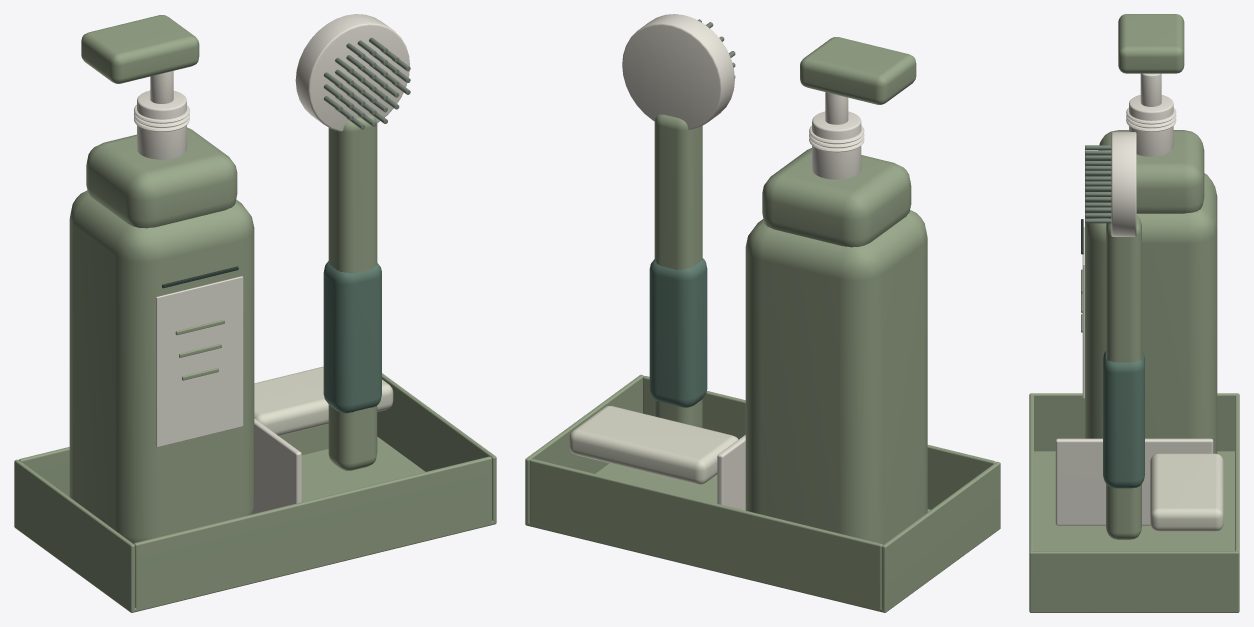
File: kitchen.glb
3 renders of one model, left to right at view 1: azimuth 30°, elevation 25°; view 2: azimuth 150°, elevation 25°; view 3: azimuth 270°, elevation 25°, orthographic. The views are drawn at different scales.
Parts seen in each view (by area): view 1: Task bottle molded body, Removable docking tray front, Task bottle task label, Task bottle shoulder, Task brush handle, Removable docking tray left, Task brush soft grip, Task brush head, Task bottle pump top, Removable docking tray right, Separated textile, Removable docking tray floor (+4 smaller); view 2: Task bottle molded body, Removable docking tray back, Task bottle shoulder, Task brush head, Removable docking tray left, Separated textile, Task brush handle, Task brush soft grip, Task bottle pump top, Removable docking tray front, Removable docking tray right, Task bottle neck (+3 smaller); view 3: Task bottle molded body, Removable docking tray right, Removable docking tray floor, Task brush handle, Wet dry divider, Separated textile, Task brush soft grip, Task bottle shoulder, Task bottle pump top, Removable docking tray left, Task brush head, Task bottle neck (+4 smaller).
Part boxes in pixels (box(x1,y1,x2,y2)): Task bottle molded body: box(69, 190, 254, 543); Removable docking tray front: box(134, 456, 491, 611); Task bottle task label: box(156, 276, 243, 447); Task bottle shoulder: box(86, 127, 237, 228); Task brush handle: box(328, 116, 377, 470); Removable docking tray left: box(14, 459, 134, 612); Task brush soft grip: box(323, 261, 381, 413); Task brush head: box(295, 14, 409, 131); Task bottle pump top: box(81, 15, 199, 83); Removable docking tray right: box(377, 373, 496, 524); Separated textile: box(254, 366, 393, 435); Removable docking tray floor: box(115, 436, 495, 612); Task bottle molded body: box(745, 210, 927, 544); Removable docking tray back: box(529, 458, 882, 611); Task bottle shoulder: box(762, 148, 911, 247); Task brush head: box(622, 14, 734, 129); Removable docking tray left: box(881, 461, 1000, 612); Separated textile: box(569, 406, 738, 484); Task brush handle: box(654, 114, 702, 427); Task brush soft grip: box(649, 258, 707, 407); Task bottle pump top: box(800, 37, 916, 104); Removable docking tray front: box(643, 376, 995, 509); Removable docking tray right: box(525, 374, 643, 525); Task bottle neck: box(812, 111, 861, 179); Task bottle molded body: box(1085, 173, 1217, 453); Removable docking tray right: box(1029, 551, 1239, 612); Removable docking tray floor: box(1030, 451, 1239, 612); Task brush handle: box(1106, 216, 1141, 539); Wet dry divider: box(1055, 438, 1213, 525); Separated textile: box(1150, 453, 1223, 531); Task brush soft grip: box(1103, 351, 1144, 488); Task bottle shoulder: box(1098, 130, 1204, 213); Task bottle pump top: box(1118, 14, 1184, 73); Removable docking tray left: box(1029, 393, 1239, 451); Task brush head: box(1111, 132, 1136, 236); Task bottle neck: box(1129, 95, 1173, 156).
Bounding box in the file's own units: 0.18 × 0.24 × 0.1.
